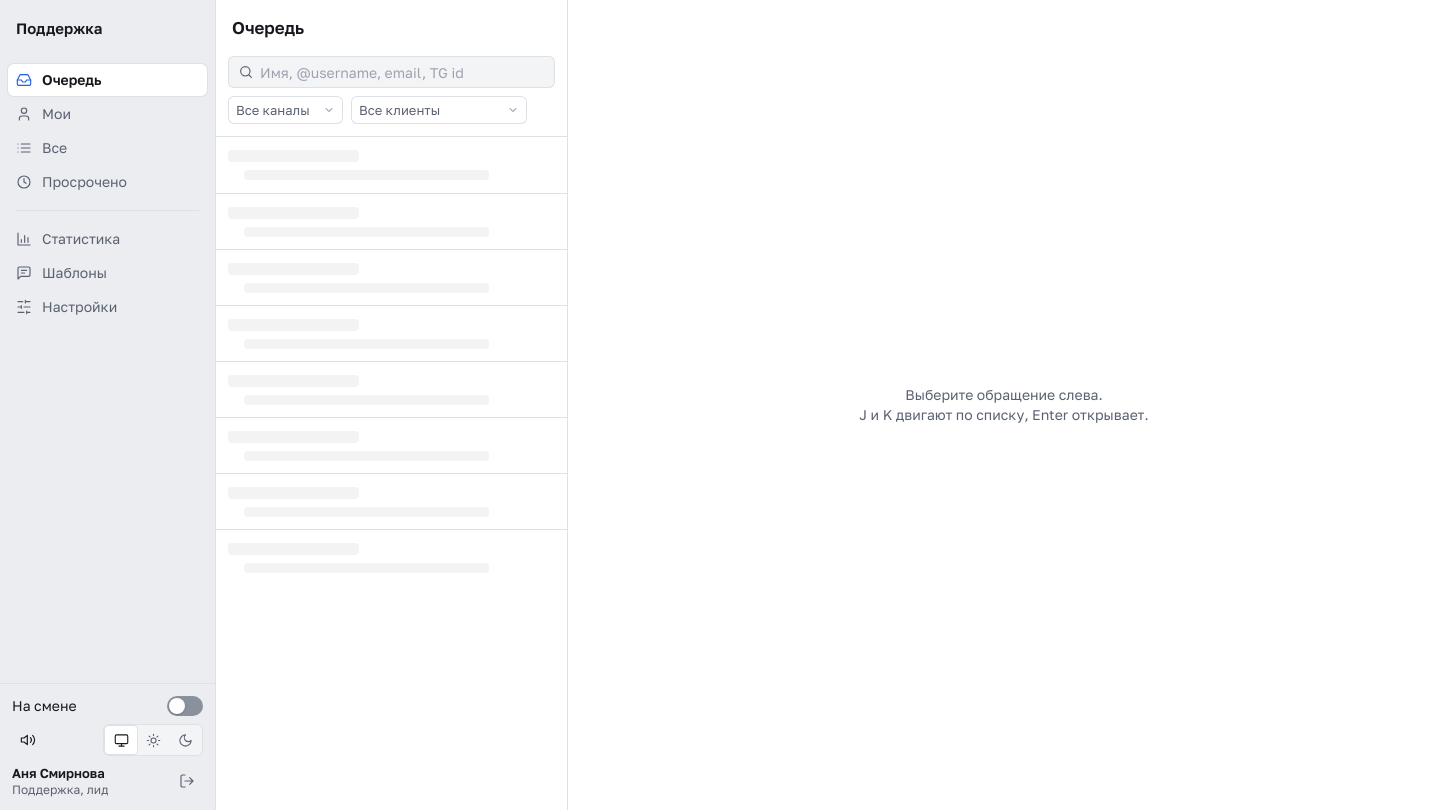
Test: Shell › stays put and says so when logout fails
Click the button named "Выйти". click: (187, 781)
box: [171,765,203,797]
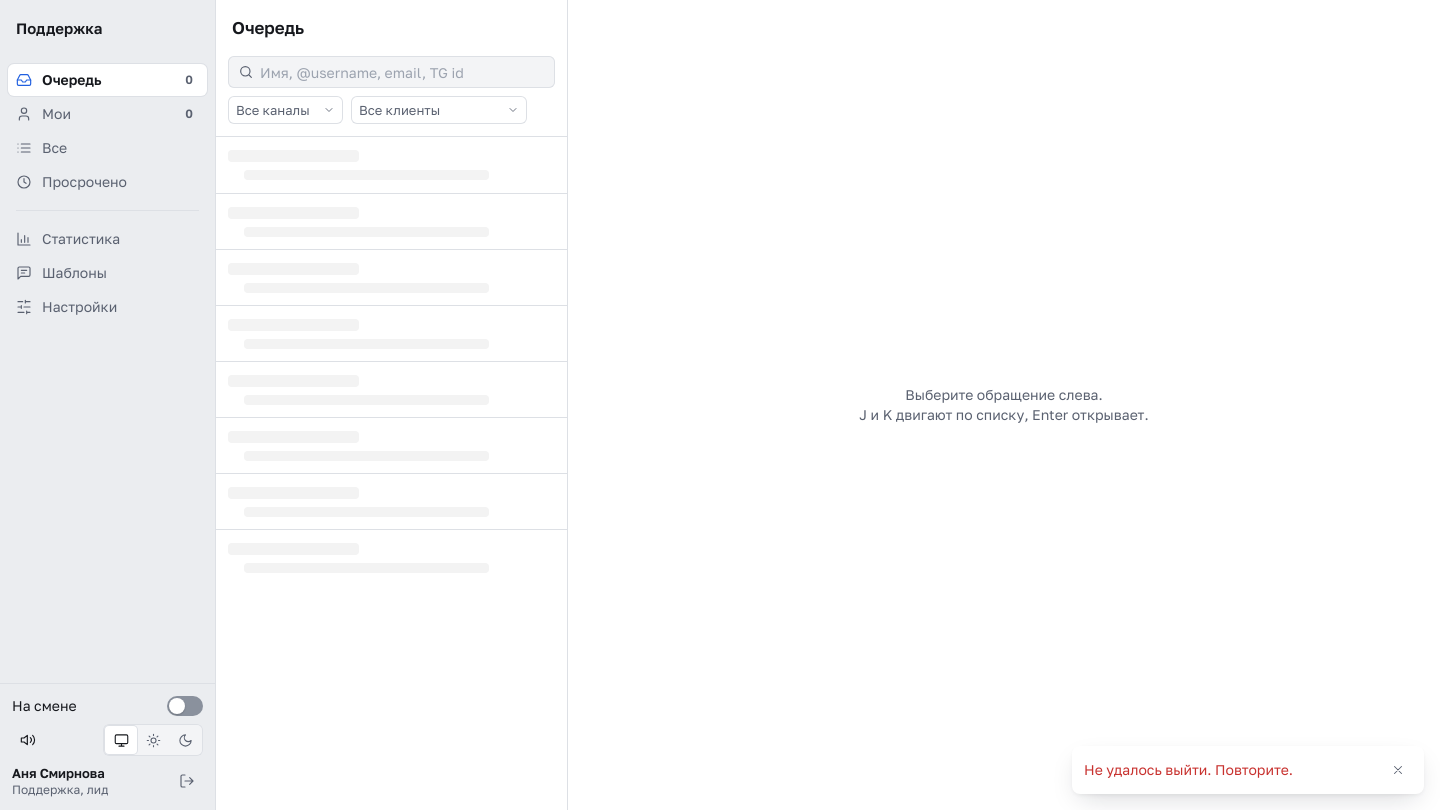
Now the text "Не удалось выйти. Повторите." is shown, box [1084,761,1293,778]
